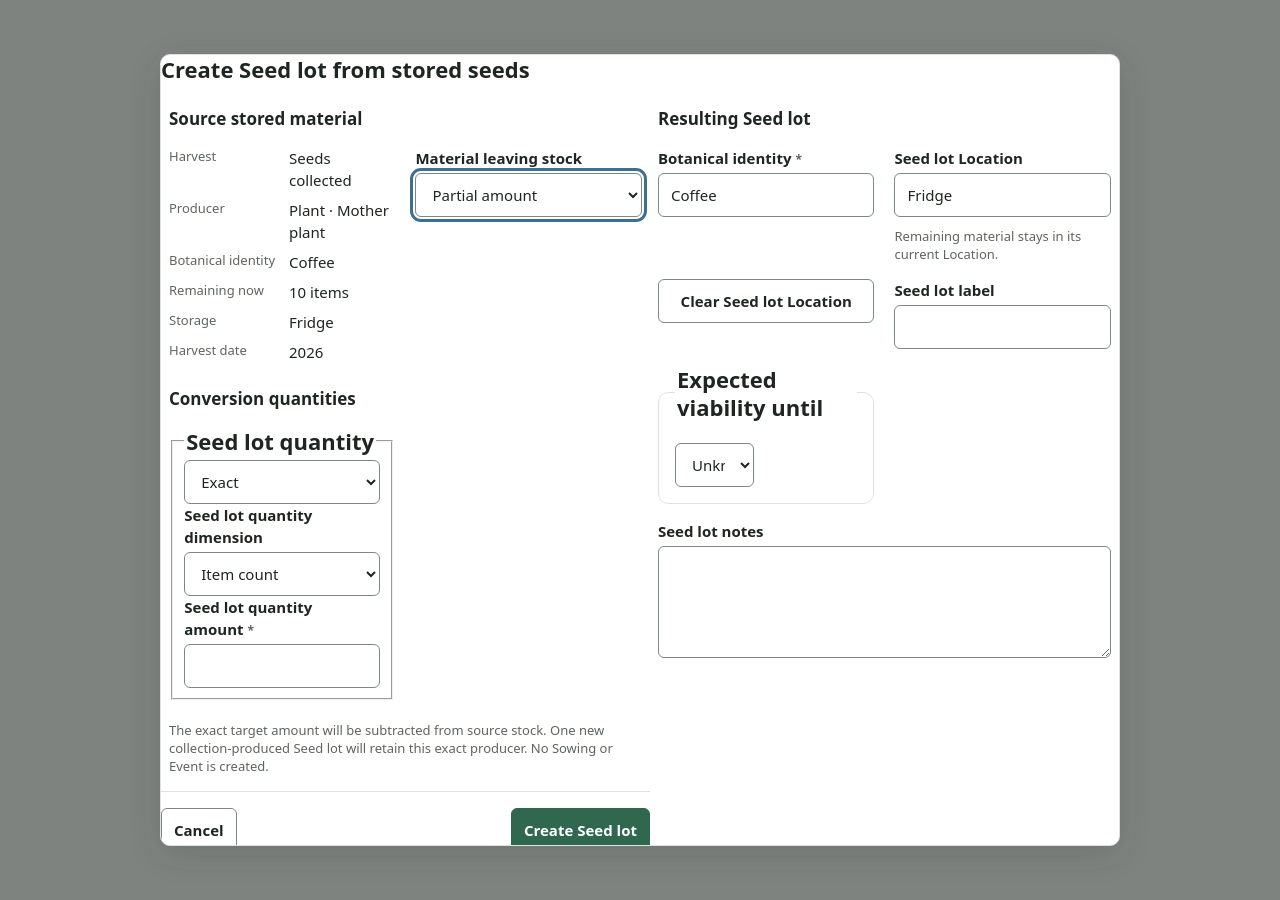
Test: use all exact stock preserves exact target and depletes the source
Check: the dropdown labelled "Botanical identity" is shown, box 658,173 -> 874,217
Select "Use all remaining" in the dropdown labelled "Material leaving stock" at [529, 195], box 416,173 -> 642,217
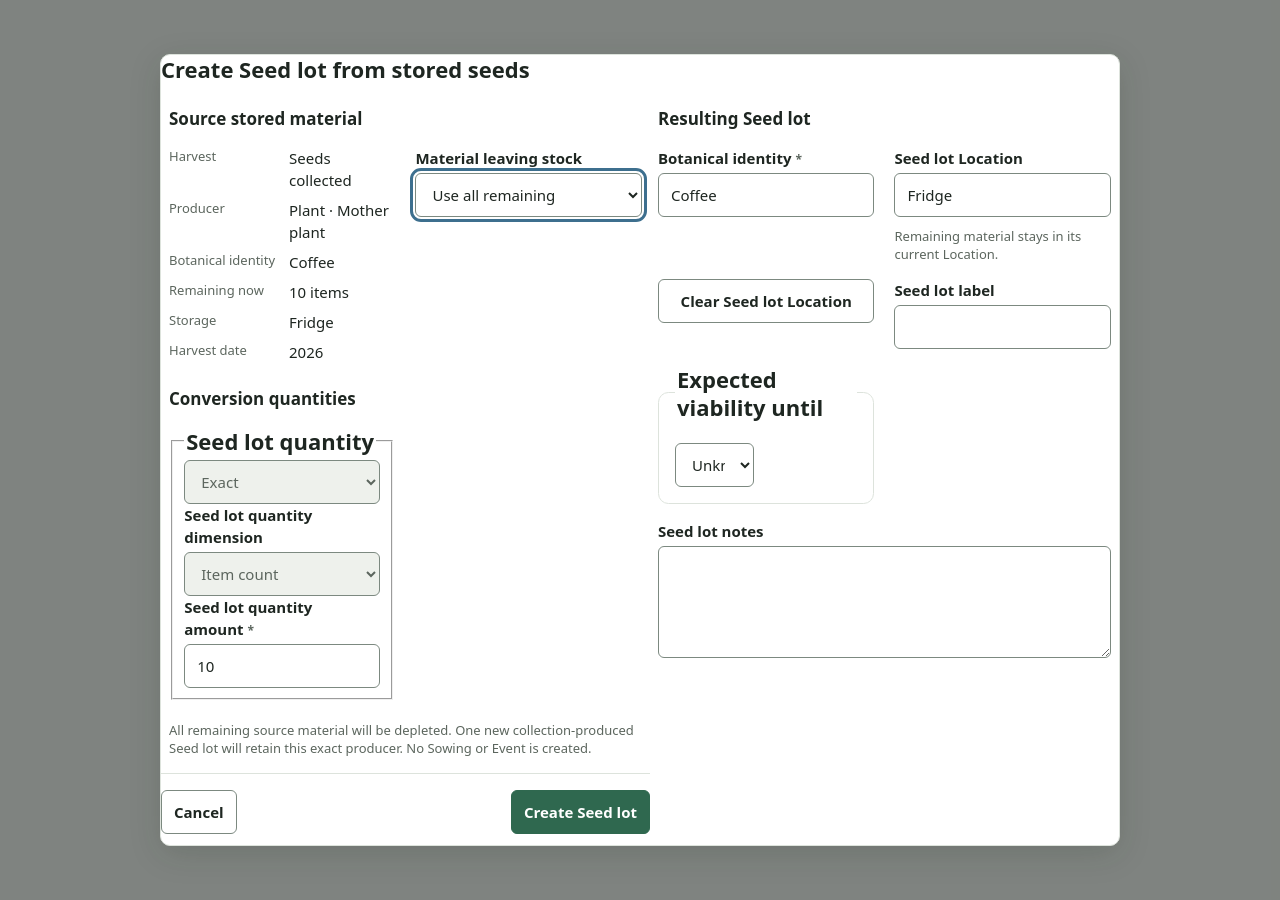
Check: the field labelled "Seed lot quantity amount" is disabled, box 184,644 -> 380,688
Check: the field labelled "Seed lot quantity amount" holds "10", box 184,644 -> 380,688
Check: the text "All remaining source material will be depleted" is shown, box 169,721 -> 452,739
